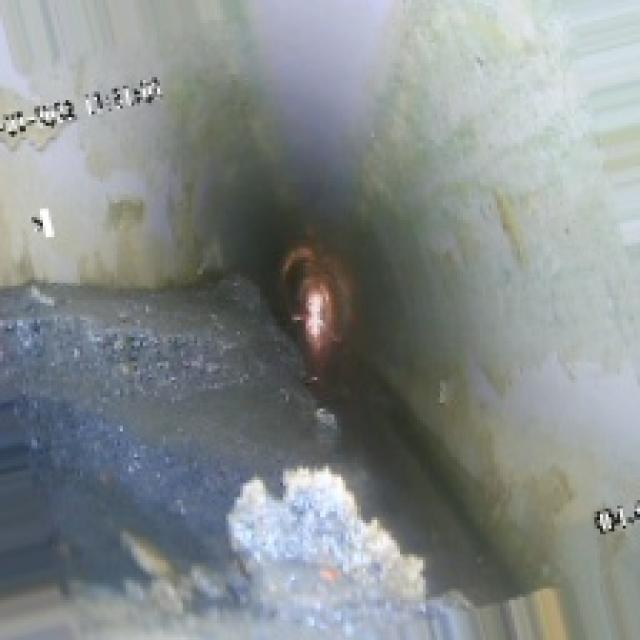sluge accumulation: (34, 289, 460, 637)
